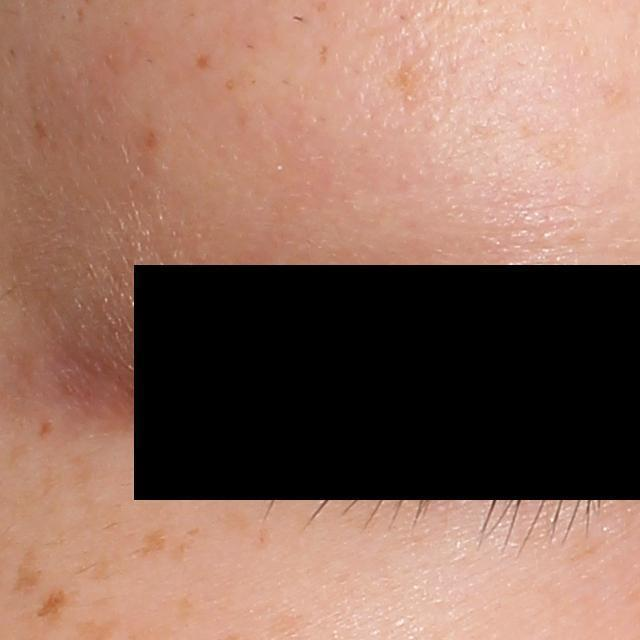melasma: (139, 521, 171, 561)
